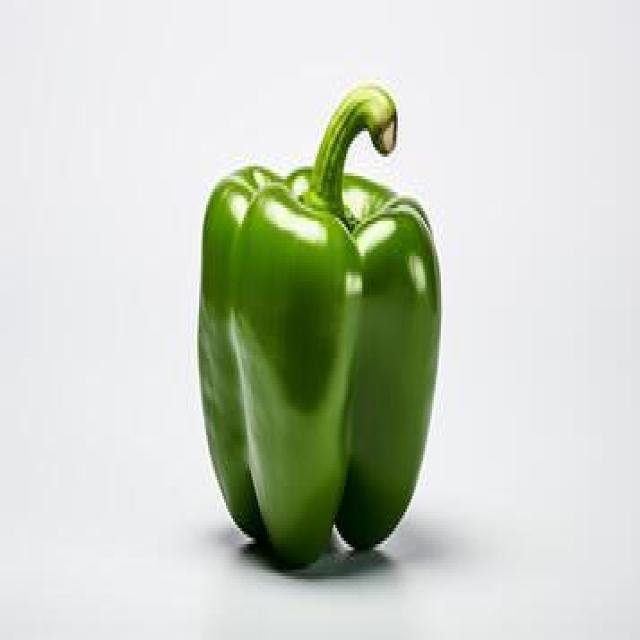Capsicum: (202, 79, 439, 572)
